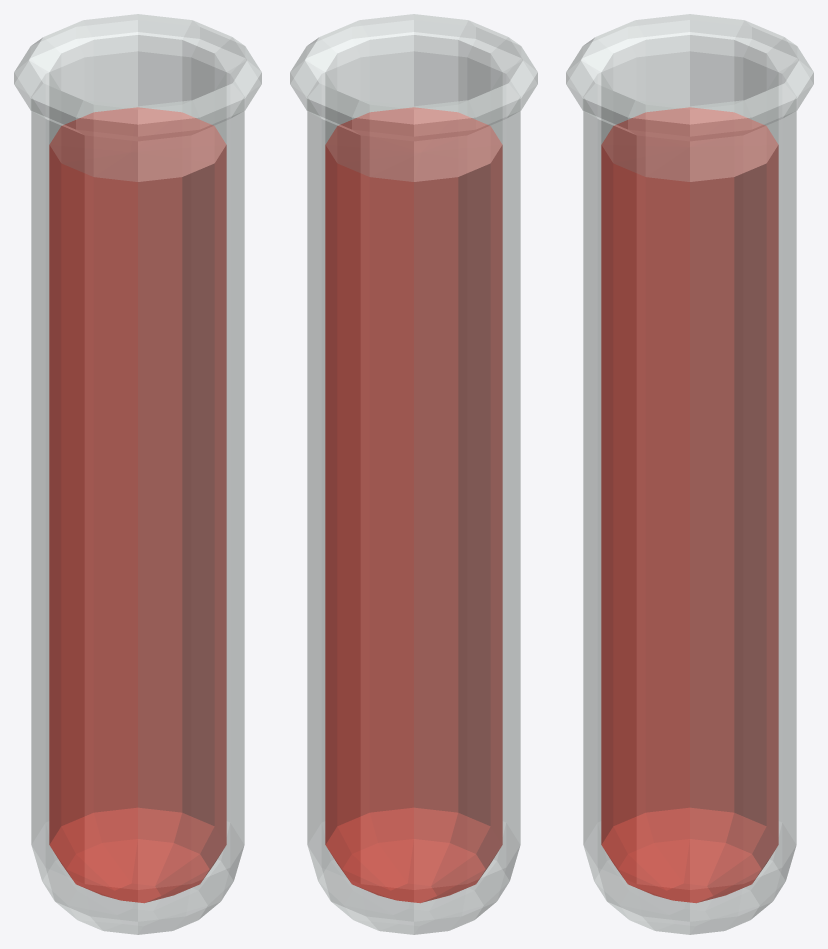
File: Test Tube%2C red liquid.glb
3 renders of one model, left to right at view 1: azimuth 30°, elevation 25°; view 2: azimuth 150°, elevation 25°; view 3: azimuth 270°, elevation 25°, orthographic.
Visible parts, largest first — view 1: group396116694; view 2: group396116694; view 3: group396116694.
Boxes of the visible parts, left/top/right/bottom form: group396116694: left=14, top=14, right=261, bottom=934; group396116694: left=290, top=14, right=537, bottom=934; group396116694: left=566, top=14, right=813, bottom=934.
Bounding box in the file's own units: 0.186 × 0.71 × 0.186.
